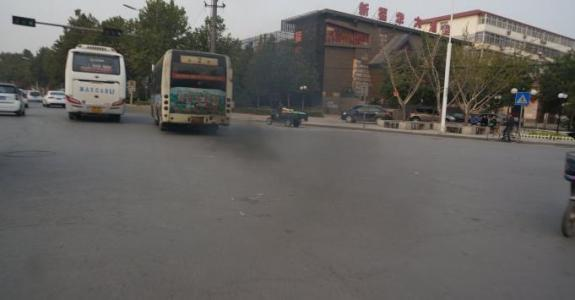smoke: (214, 121, 287, 162)
